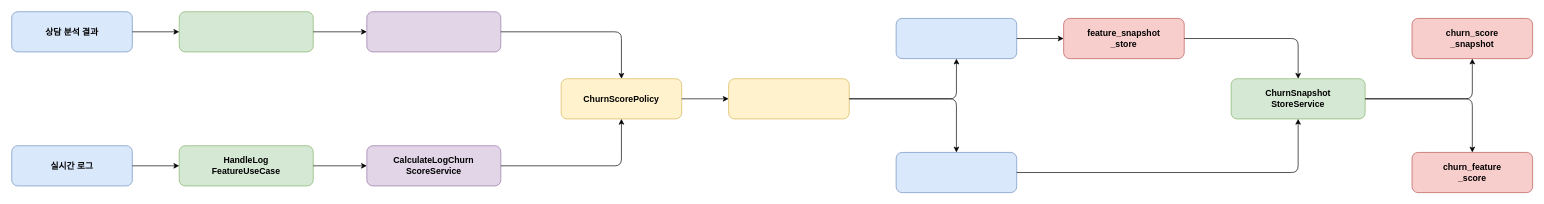
Some shapes in this 1544 by 204 pixel diagram are drawn without their labels. The centre of each missing label's shape, as x and y in pixels:
CalculateChurn ScoreService: point 433,31
feature별 점수 계산 결과: point 788,98
HandleAnalysis ConsultationUseCase: point 246,31
각 feature snapshot 동기화: point 956,38
위험 사유 생성: point 956,172
